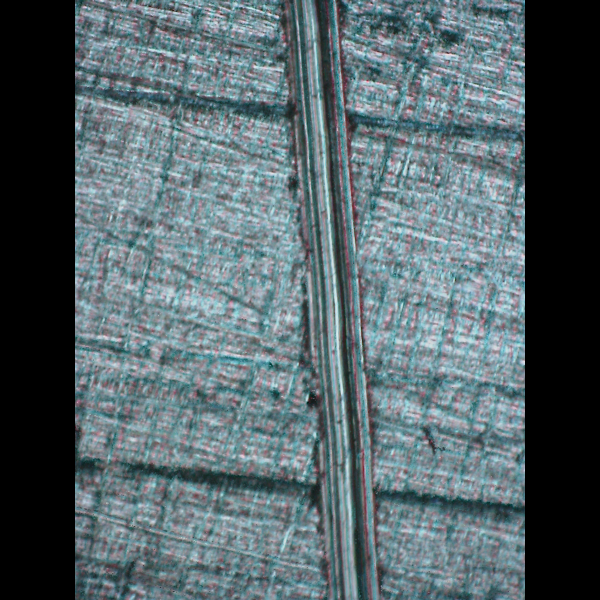d: (266, 0, 386, 597)
